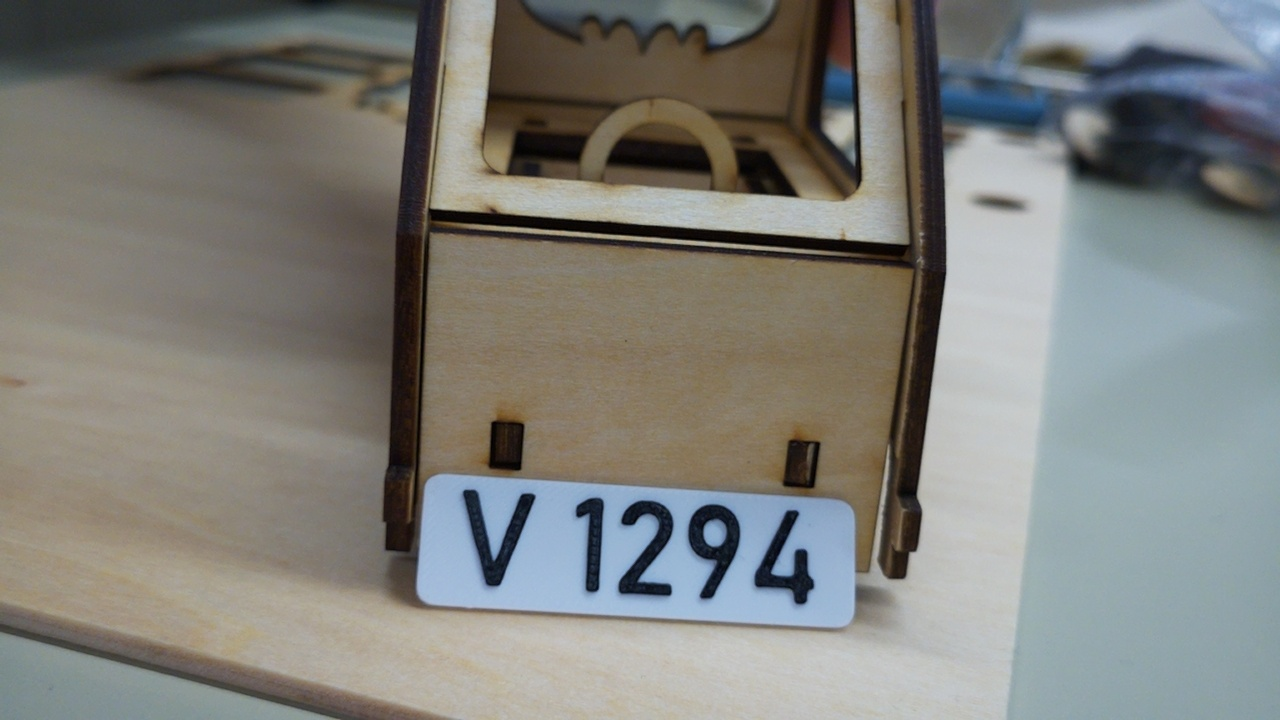license_plate: (413, 470, 859, 631)
